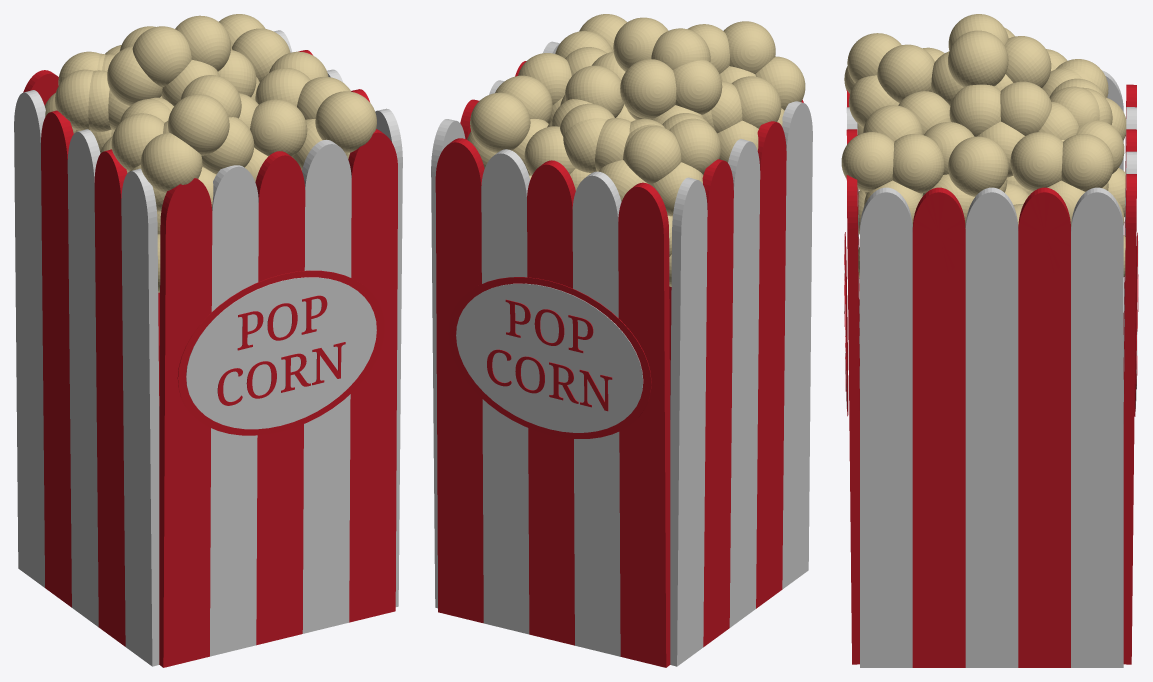
The model's file is popcorn.glb.
The picture shows the model from 3 angles, left to right: view 1: azimuth 30°, elevation 25°; view 2: azimuth 150°, elevation 25°; view 3: azimuth 270°, elevation 25°; orthographic projection.
Parts seen in each view (by area): view 1: Mesh_Mesh_head_geo001_lambert2SG001; view 2: Mesh_Mesh_head_geo001_lambert2SG001; view 3: Mesh_Mesh_head_geo001_lambert2SG001.
Part boxes in pixels (bbox=[...]): Mesh_Mesh_head_geo001_lambert2SG001: bbox=[14, 14, 402, 667]; Mesh_Mesh_head_geo001_lambert2SG001: bbox=[431, 14, 812, 667]; Mesh_Mesh_head_geo001_lambert2SG001: bbox=[841, 14, 1138, 667].
Size of the model in its own units: 110 by 238 by 113.
